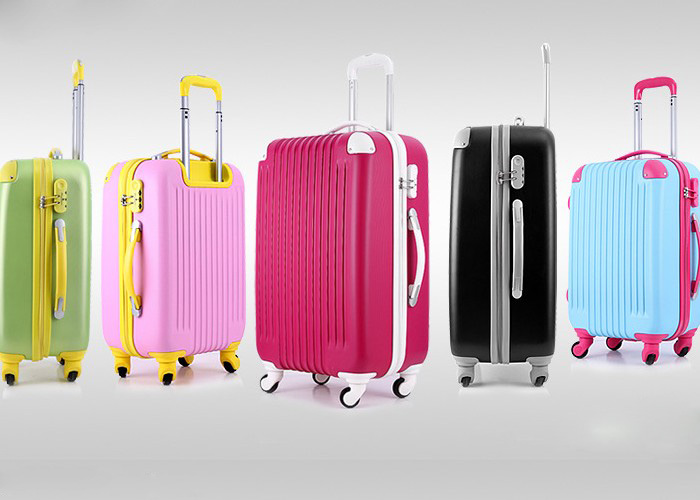luggage: (253, 53, 431, 406), (100, 73, 248, 386), (447, 40, 560, 388)
